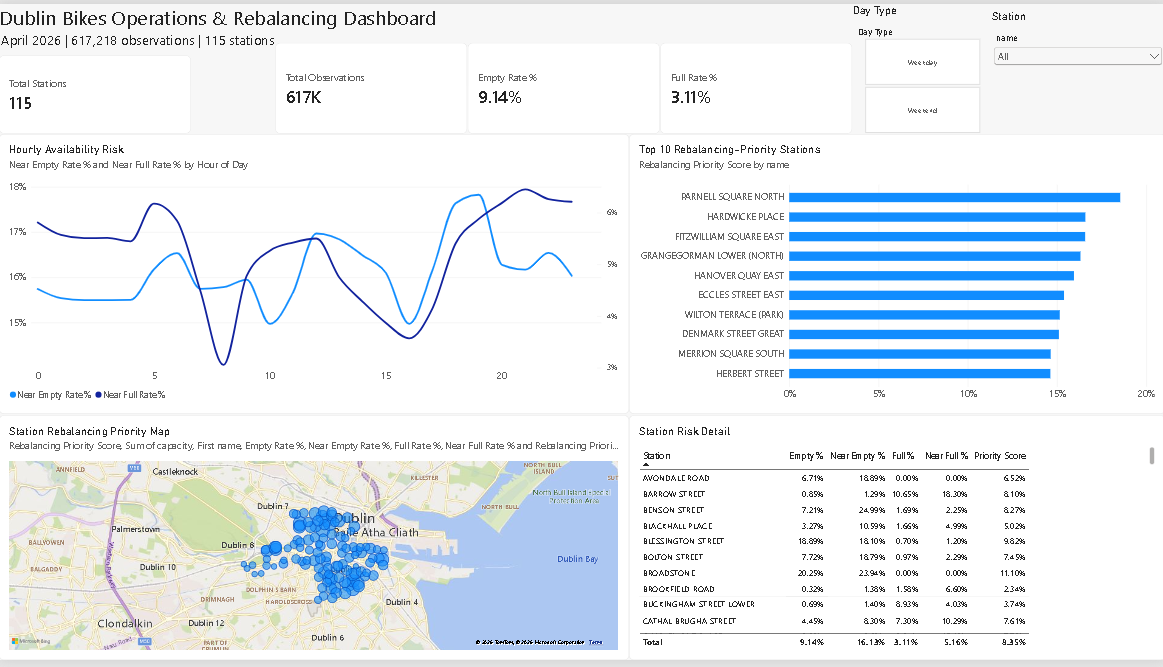

What the dashboard file says about the page in this screenshot:
{"tool":"powerbi","page":{"name":"Page 1","canvas":[1920,1080],"ordinal":0},"visuals":[{"type":"cardVisual","fields":{"Data":["Measures (2).Total Observations"]},"box":[454.9,63.8,317,150.3],"z":0},{"type":"cardVisual","fields":{"Data":["Measures (2).Empty Rate %"]},"box":[771.9,63.8,317,150.3],"z":1000},{"type":"cardVisual","fields":{"Data":["Measures (2).Full Rate %"]},"box":[1088.9,63.8,317,150.3],"z":2000},{"type":"cardVisual","fields":{"Data":["Measures (2).Total Stations"]},"box":[0,84.4,317,129.7],"z":3000},{"type":"lineChart","title":"Hourly Availability Risk","fields":{"Category":["StationStatus.hour"],"Y":["Measures (2).Near Empty Rate %"],"Y2":["Measures (2).Near Full Rate %"]},"box":[0,214.1,1037.4,461.1],"z":4000},{"type":"barChart","title":"Top 10 Rebalancing-Priority Stations","fields":{"Category":["StationStatus.name"],"Y":["Measures (2).Rebalancing Priority Score"]},"box":[1037.4,214.1,883,461.1],"z":5000},{"type":"map","title":"Station Rebalancing Priority Map","fields":{"Size":["Measures (2).Rebalancing Priority Score"],"X":["StationStatus.lon"],"Y":["StationStatus.lat"]},"box":[0,677.2,1037.4,403.4],"z":5001},{"type":"slicer","title":"Day Type","fields":{"Values":["StationStatus.Day Type"]},"box":[1405.8,0,228.5,214.1],"z":5002},{"type":"slicer","title":"Station","fields":{"Values":["StationStatus.name"]},"box":[1634.3,10.3,286.1,214.1],"z":5003},{"type":"tableEx","title":"Station Risk Detail","fields":{"Values":["StationStatus.name","Measures (2).Empty Rate %","Measures (2).Near Empty Rate %","Measures (2).Full Rate %","Measures (2).Near Full Rate %","Measures (2).Rebalancing Priority Score"]},"box":[1037.4,677.2,883,403.4],"z":5004},{"type":"textbox","box":[0,0,1405.8,84.4],"z":5006}]}

Visuals, with their boxes in screenshot pixels (x1, y1, x2, y2), scaled from the page's 1920x1080 canvas onto the 1163x667 screenshot:
cardVisual - Measures (2).Total Observations: crop(276, 39, 468, 132)
cardVisual - Measures (2).Empty Rate %: crop(468, 39, 660, 132)
cardVisual - Measures (2).Full Rate %: crop(660, 39, 852, 132)
cardVisual - Measures (2).Total Stations: crop(0, 52, 192, 132)
"Hourly Availability Risk" lineChart: crop(0, 132, 628, 417)
"Top 10 Rebalancing-Priority Stations" barChart: crop(628, 132, 1162, 417)
"Station Rebalancing Priority Map" map: crop(0, 418, 628, 666)
"Day Type" slicer: crop(852, 0, 990, 132)
"Station" slicer: crop(990, 6, 1162, 139)
"Station Risk Detail" tableEx: crop(628, 418, 1162, 666)
textbox: crop(0, 0, 852, 52)
